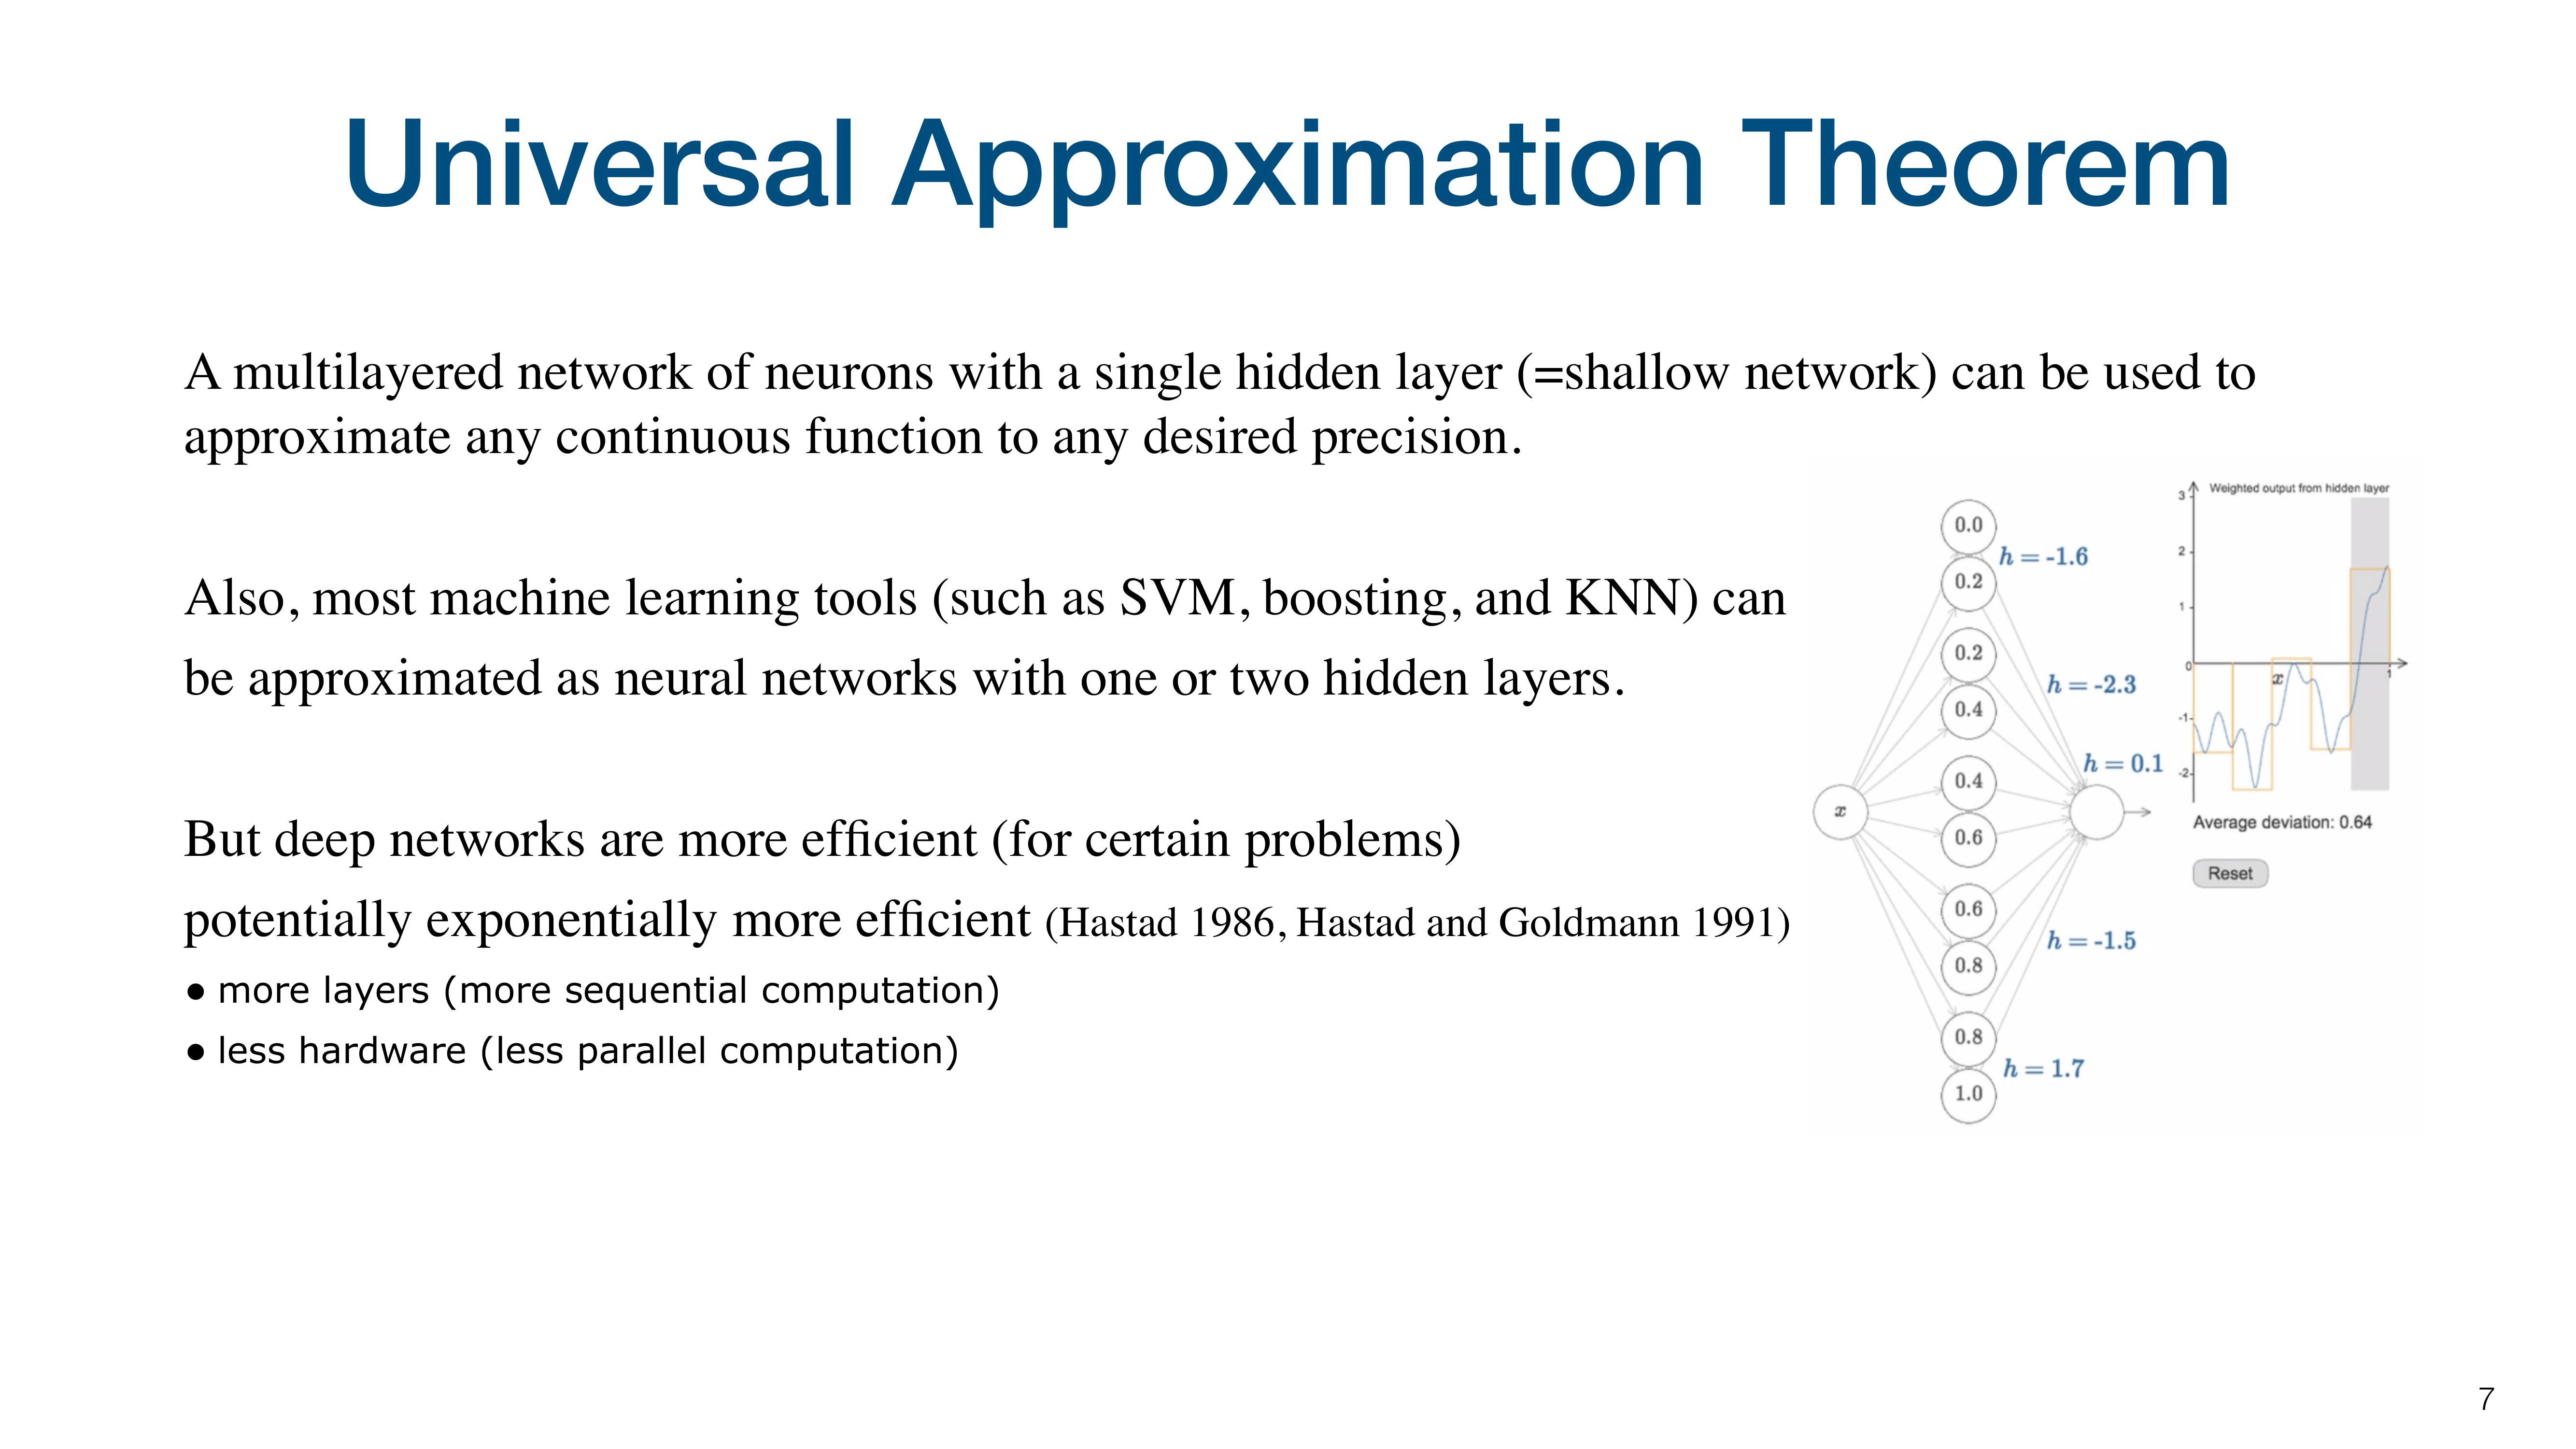Title: (322, 96, 2250, 248)
